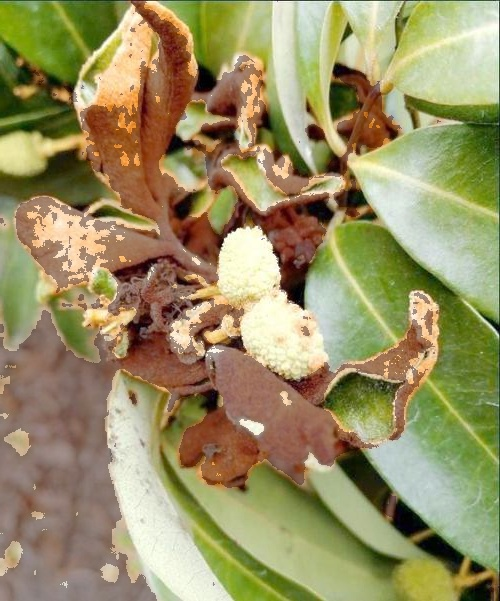Gall_Mite: (153, 284, 455, 477), (29, 15, 199, 331), (187, 46, 383, 307)
